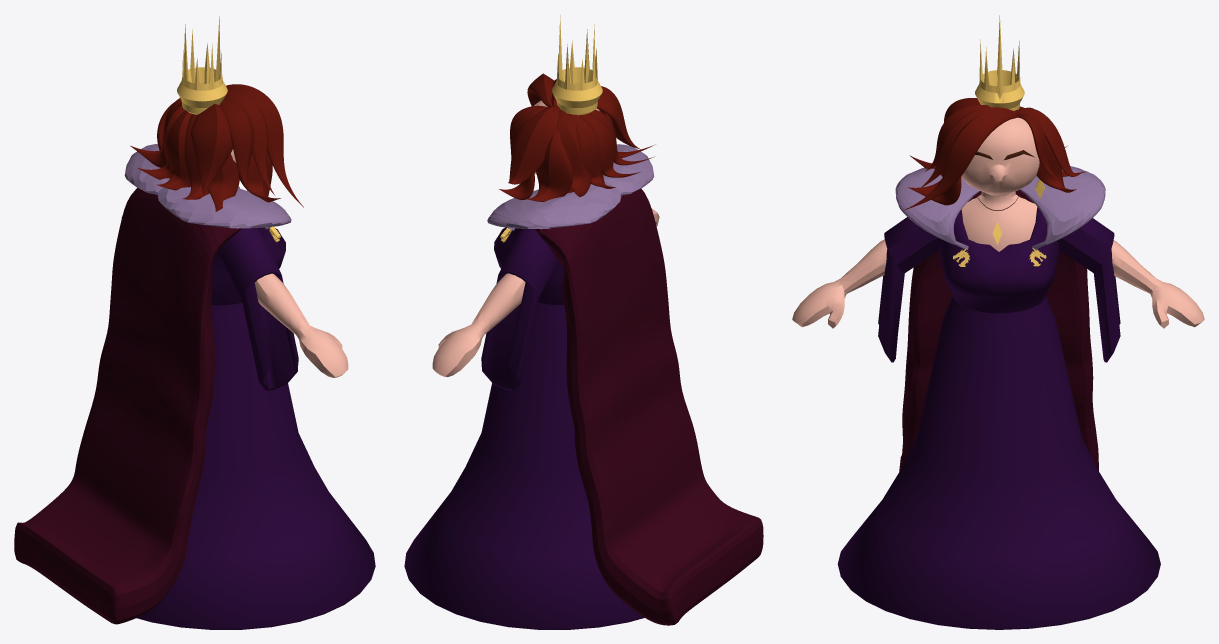
The model's file is The_Queen.fbx.
The picture shows the model from 3 angles, left to right: view 1: azimuth 30°, elevation 25°; view 2: azimuth 150°, elevation 25°; view 3: azimuth 270°, elevation 25°; orthographic projection. The views are drawn at different scales.
Visible parts, largest first — view 1: Cloak, Circle.005, NurbsPath.018, Sphere.001, RetopologyBase.011, Torus; view 2: Cloak, Circle.005, NurbsPath.018, Sphere.001, RetopologyBase.011, Torus; view 3: Circle.005, RetopologyBase.011, Cloak, NurbsPath.018, Sphere.001, Torus.
Boxes of the visible parts, box(x1,y1,x2,y2) form: Cloak: box(14, 188, 241, 624); Circle.005: box(136, 227, 375, 629); NurbsPath.018: box(130, 84, 303, 211); Sphere.001: box(124, 144, 291, 229); RetopologyBase.011: box(121, 149, 348, 377); Torus: box(177, 16, 227, 114); Cloak: box(535, 188, 763, 625); Circle.005: box(404, 227, 644, 629); NurbsPath.018: box(499, 73, 655, 201); Sphere.001: box(487, 144, 654, 230); RetopologyBase.011: box(432, 100, 659, 377); Torus: box(552, 15, 602, 115); Circle.005: box(837, 207, 1160, 629); RetopologyBase.011: box(792, 117, 1204, 328); Cloak: box(899, 190, 1098, 471); NurbsPath.018: box(903, 98, 1086, 210); Sphere.001: box(895, 166, 1105, 249); Torus: box(975, 15, 1024, 110).
Size of the model in its own units: 120 by 214 by 149.
